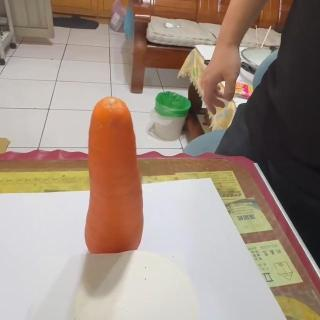carrot: (82, 96, 145, 258)
